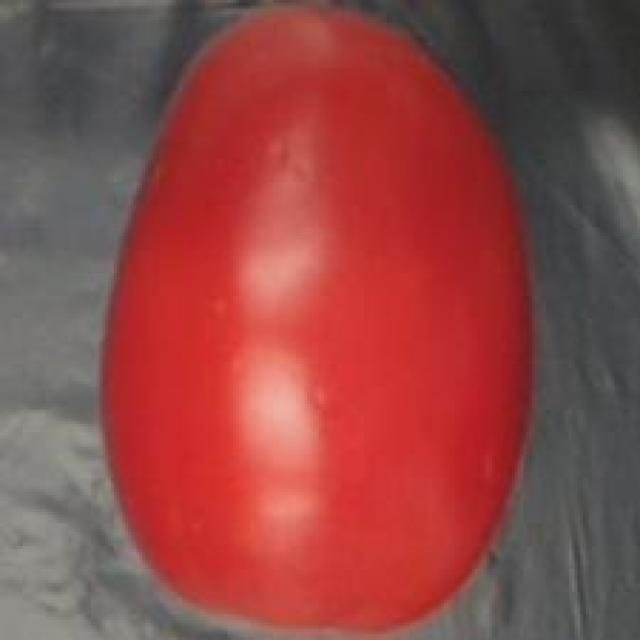ripe tomato: (88, 0, 552, 640)
